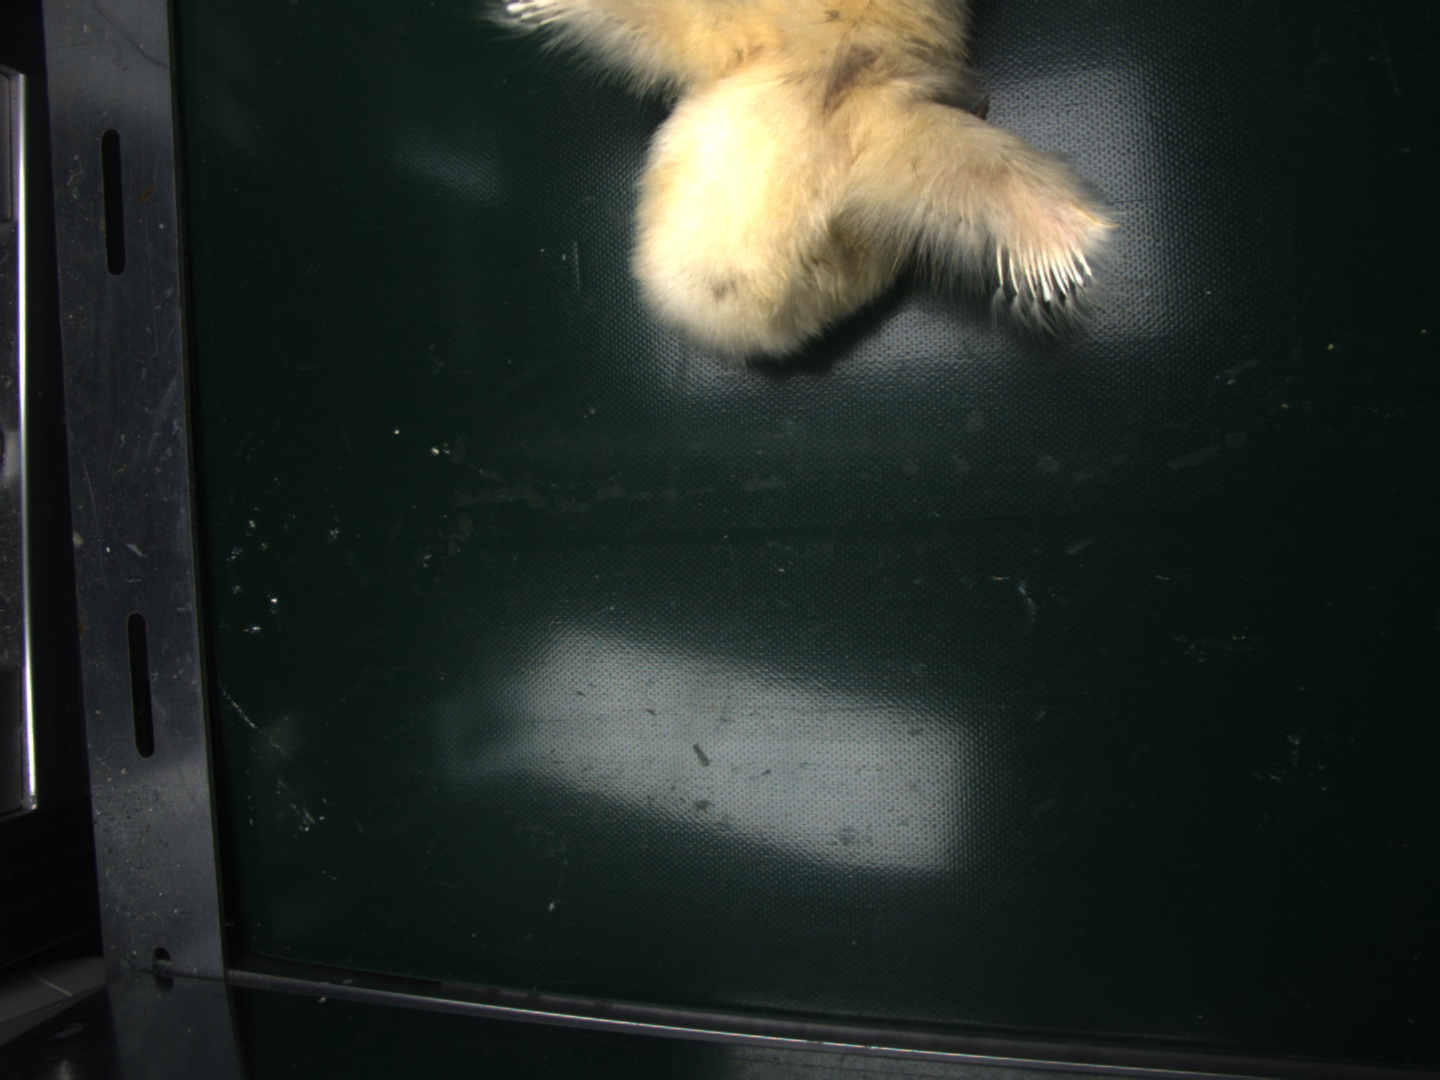male: (1001, 237, 1089, 295)
